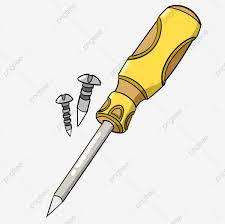screwdriver: (44, 115, 114, 217)
